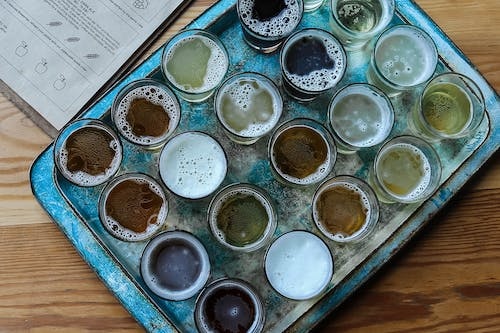alcohol: (407, 72, 486, 145), (365, 24, 439, 99), (139, 228, 213, 303), (262, 228, 336, 302), (206, 181, 280, 255), (213, 71, 285, 146), (110, 77, 182, 151), (368, 134, 443, 205), (325, 81, 396, 155), (161, 29, 231, 104), (279, 27, 348, 103), (97, 171, 169, 243), (157, 130, 229, 201), (310, 174, 381, 246), (268, 115, 338, 188), (53, 117, 124, 188), (193, 277, 267, 333), (236, 0, 305, 54), (329, 0, 397, 49), (303, 0, 327, 14)
